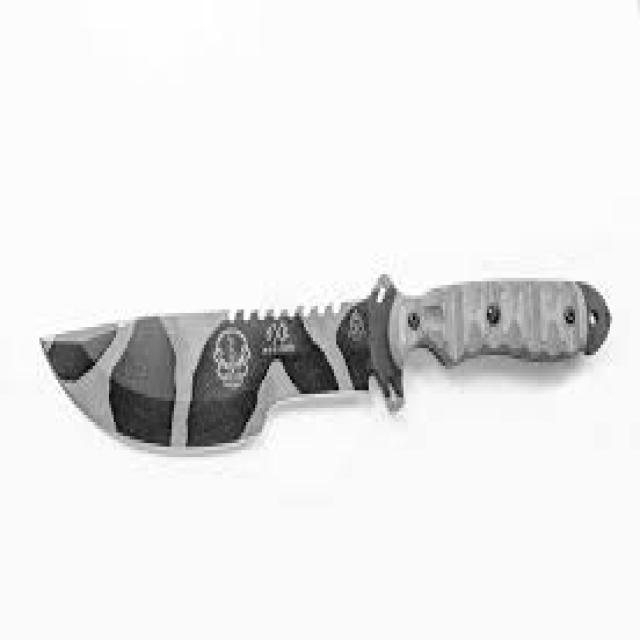knives: (35, 264, 614, 457)
